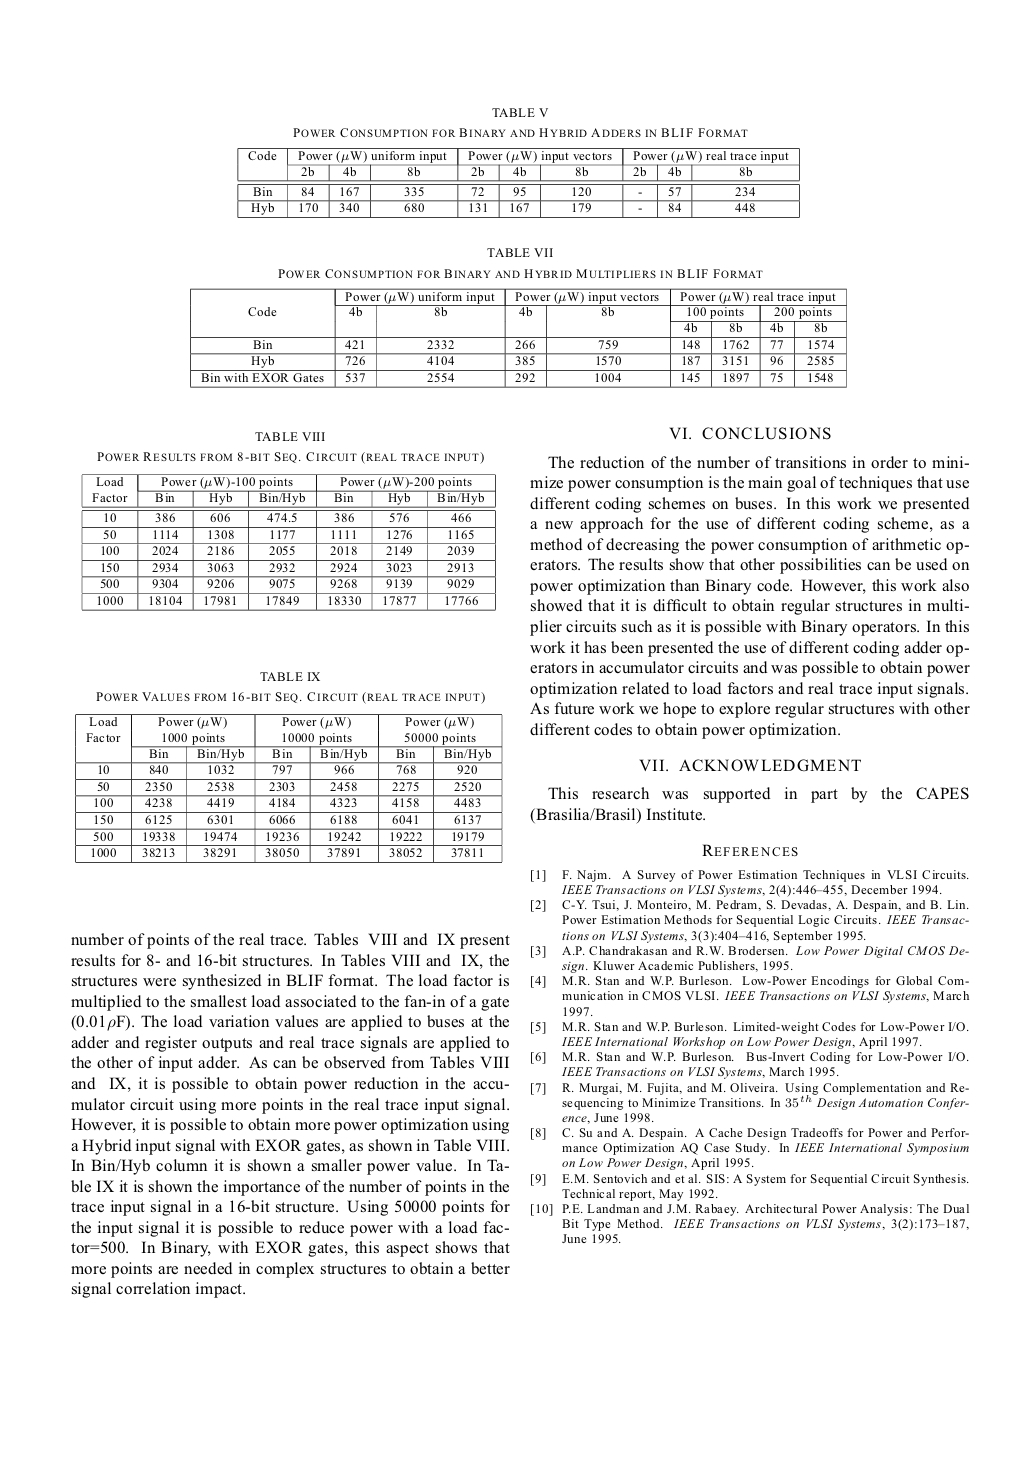Table: (190, 287, 846, 388), (75, 712, 502, 863), (81, 472, 495, 611), (237, 147, 799, 218)
